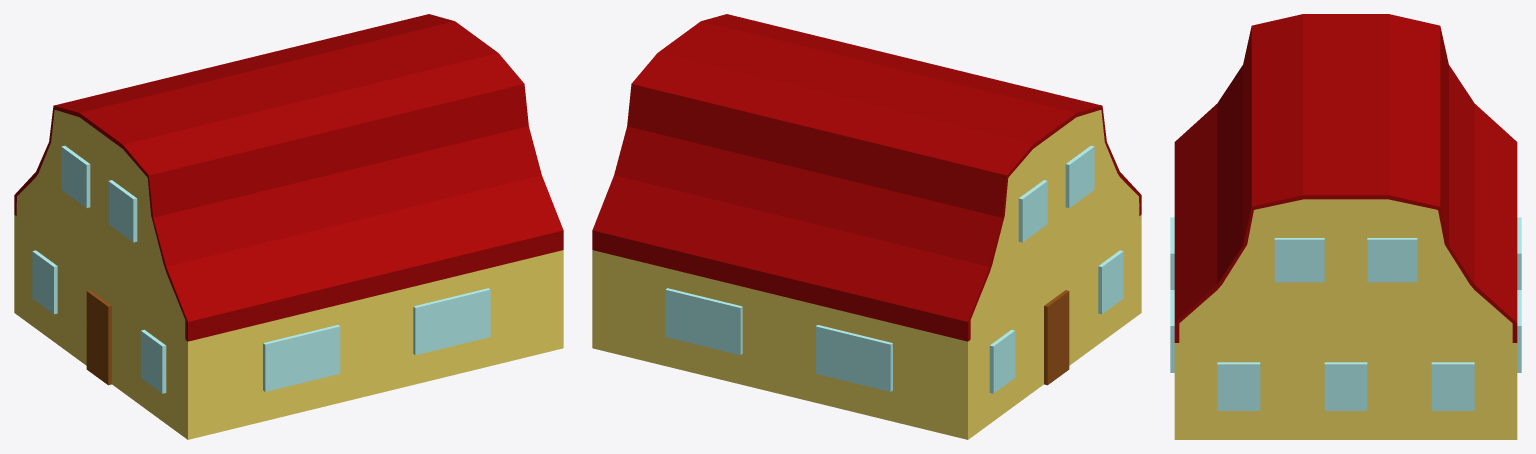
File: house3.fbx
3 renders of one model, left to right at view 1: azimuth 30°, elevation 25°; view 2: azimuth 150°, elevation 25°; view 3: azimuth 270°, elevation 25°, orthographic.
Parts seen in each view (by area): view 1: House3; view 2: House3; view 3: House3.
Part boxes in pixels (x1,y1,x2,y2): House3: [14, 14, 563, 439]; House3: [592, 14, 1141, 439]; House3: [1170, 14, 1521, 439].
Bounding box in the file's own units: 1530 × 945 × 1230.
